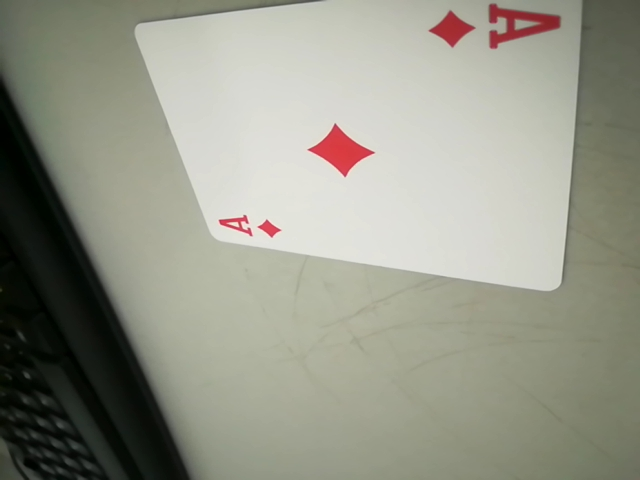fk a: (423, 1, 563, 54), (211, 205, 292, 243)
